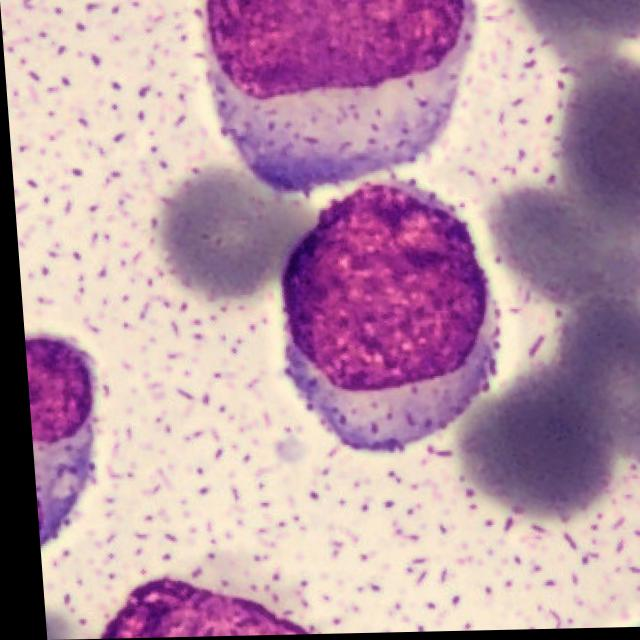Mieloblasto: (275, 185, 490, 457), (205, 0, 473, 197)
